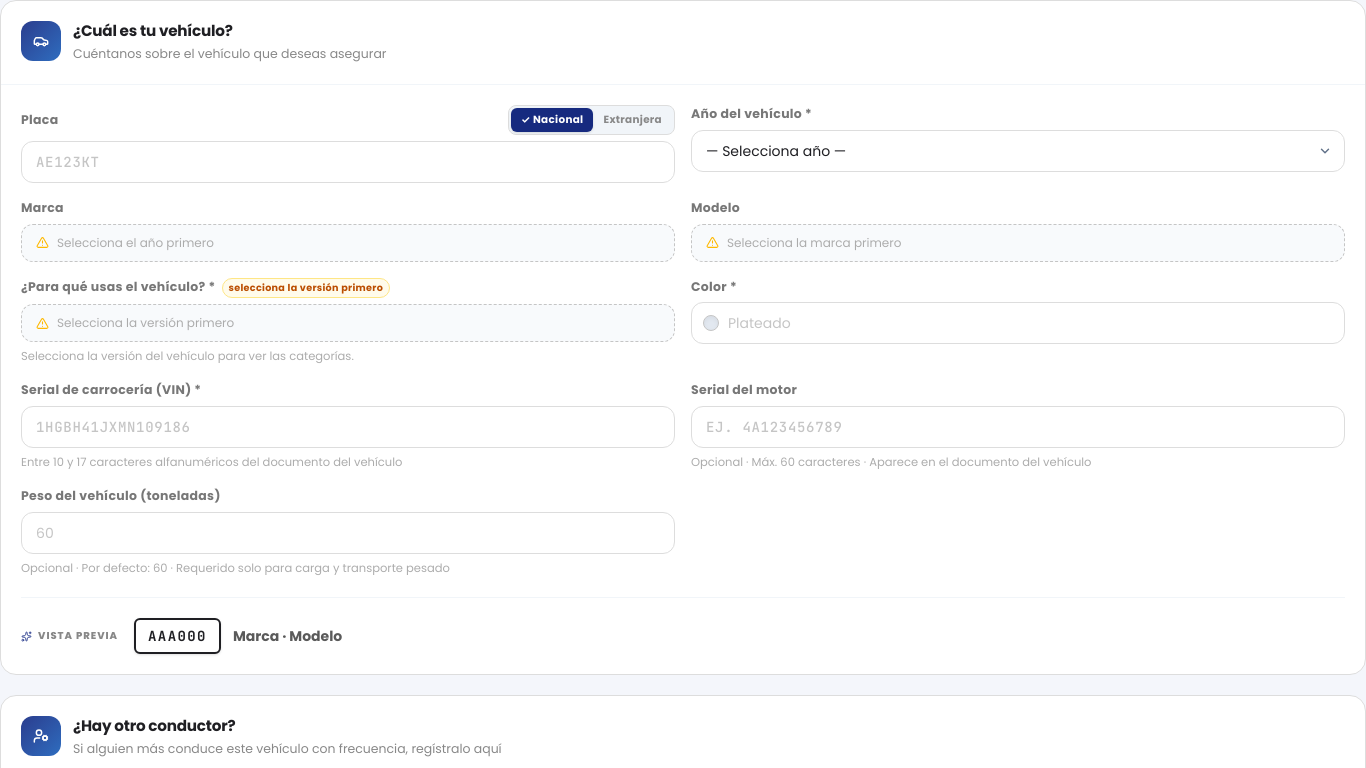
VehicleStep — smoke › escribir en placa convierte a mayúsculas y la guarda en store
This screenshot has width=1366, height=768.
Type "ae123kt" into the field with placeholder "AE123KT" at (348, 162), box [21,141,675,183]
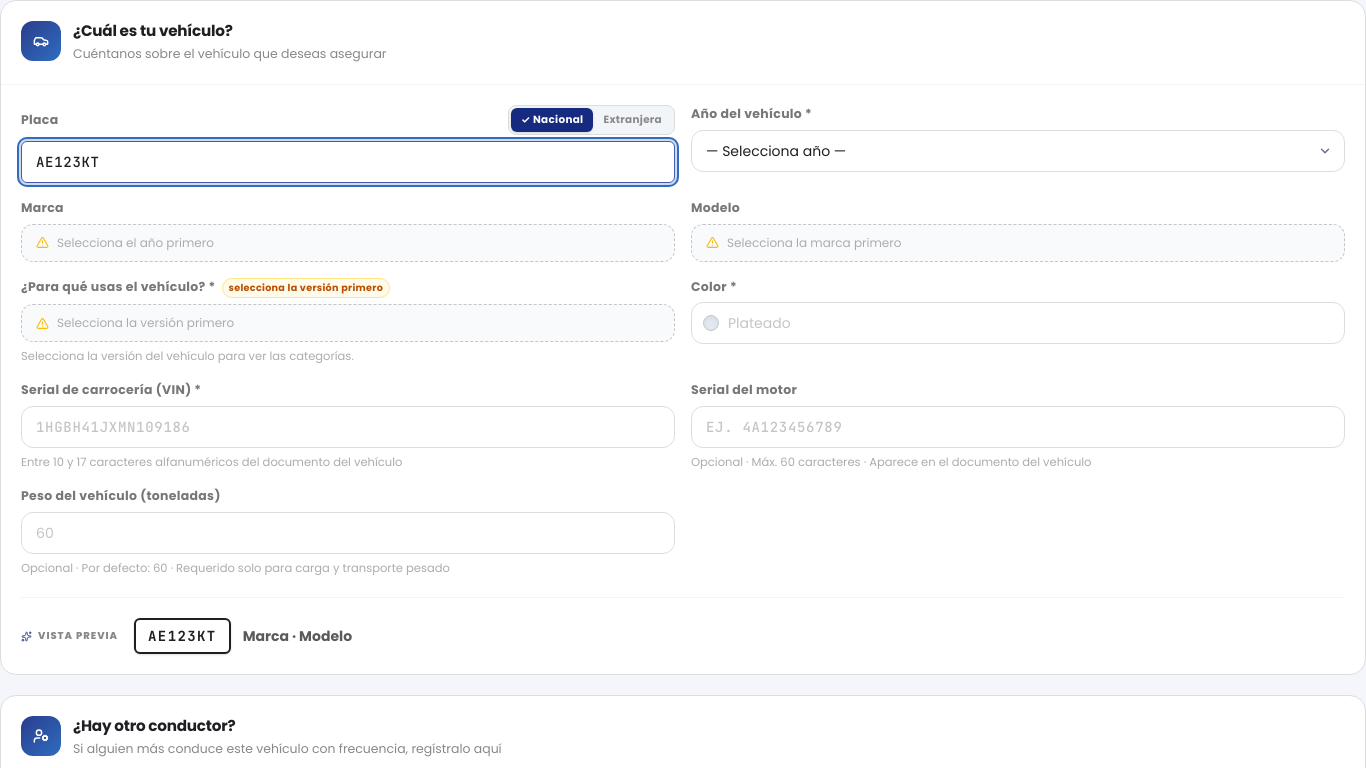
Check: the text "AE123KT" is shown, box [134,618,231,654]
